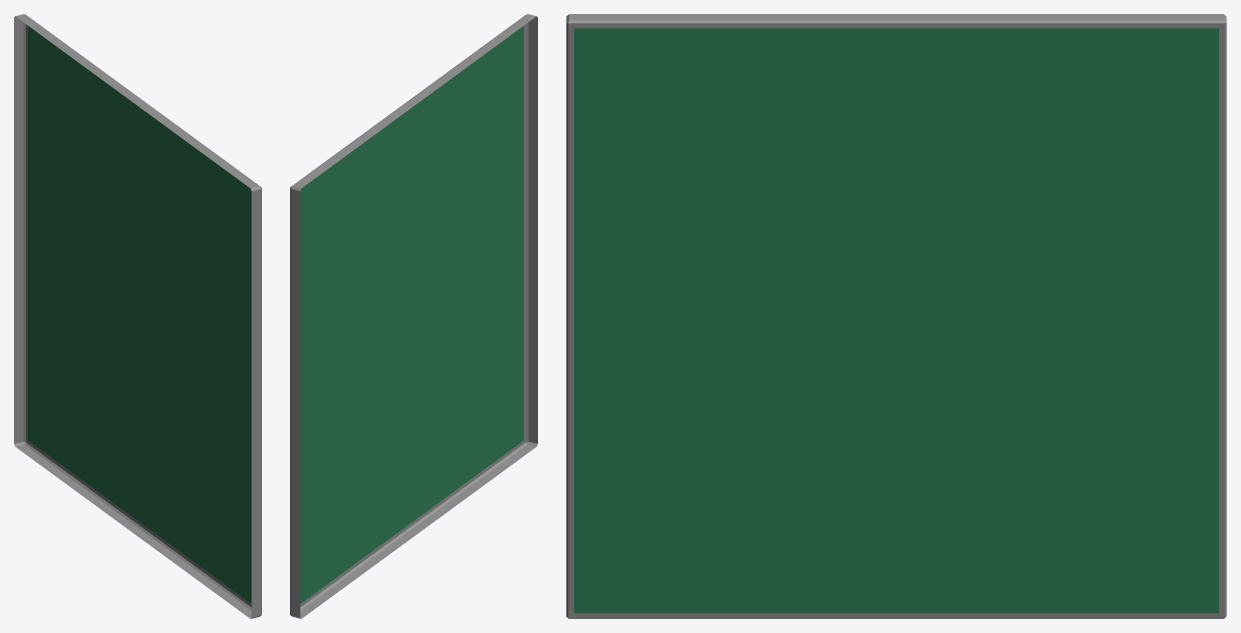
File: Frame.FBX
3 views of the same model, side by side, from view 1: azimuth 30°, elevation 25°; view 2: azimuth 150°, elevation 25°; view 3: azimuth 270°, elevation 25° (orthographic). The views are drawn at different scales.
Visible parts, largest first — view 1: Frame; view 2: Frame; view 3: Frame.
Part boxes in pixels (x1=…): Frame: x1=14, y1=14, x2=261, y2=618; Frame: x1=290, y1=14, x2=537, y2=618; Frame: x1=566, y1=14, x2=1226, y2=618.
Size of the model in its own units: 5.79 by 216 by 216.
